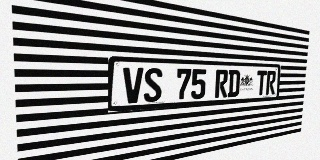5: (191, 69, 206, 99)
7: (175, 68, 192, 100)
D: (227, 70, 240, 97)
R: (215, 69, 228, 98), (266, 71, 276, 95)
S: (144, 68, 162, 102)
T: (256, 70, 267, 95)
V: (123, 67, 143, 104)
